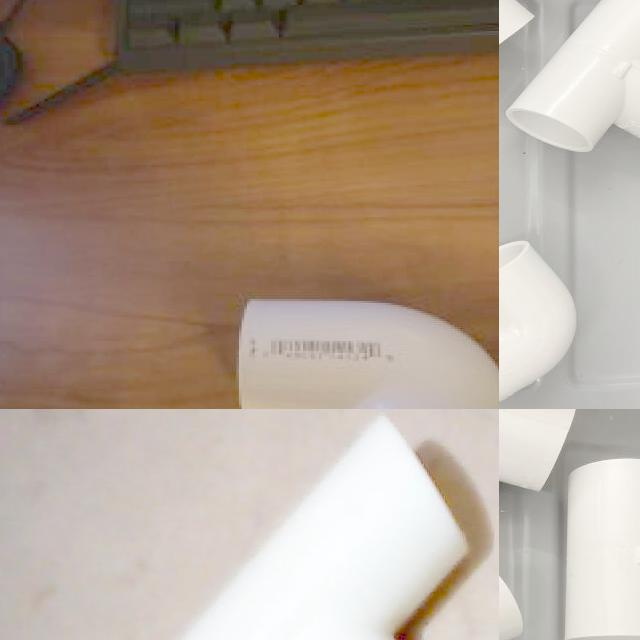L Joint: (236, 300, 499, 409), (499, 242, 577, 407)
T Joint: (179, 415, 470, 640), (563, 459, 640, 640)
